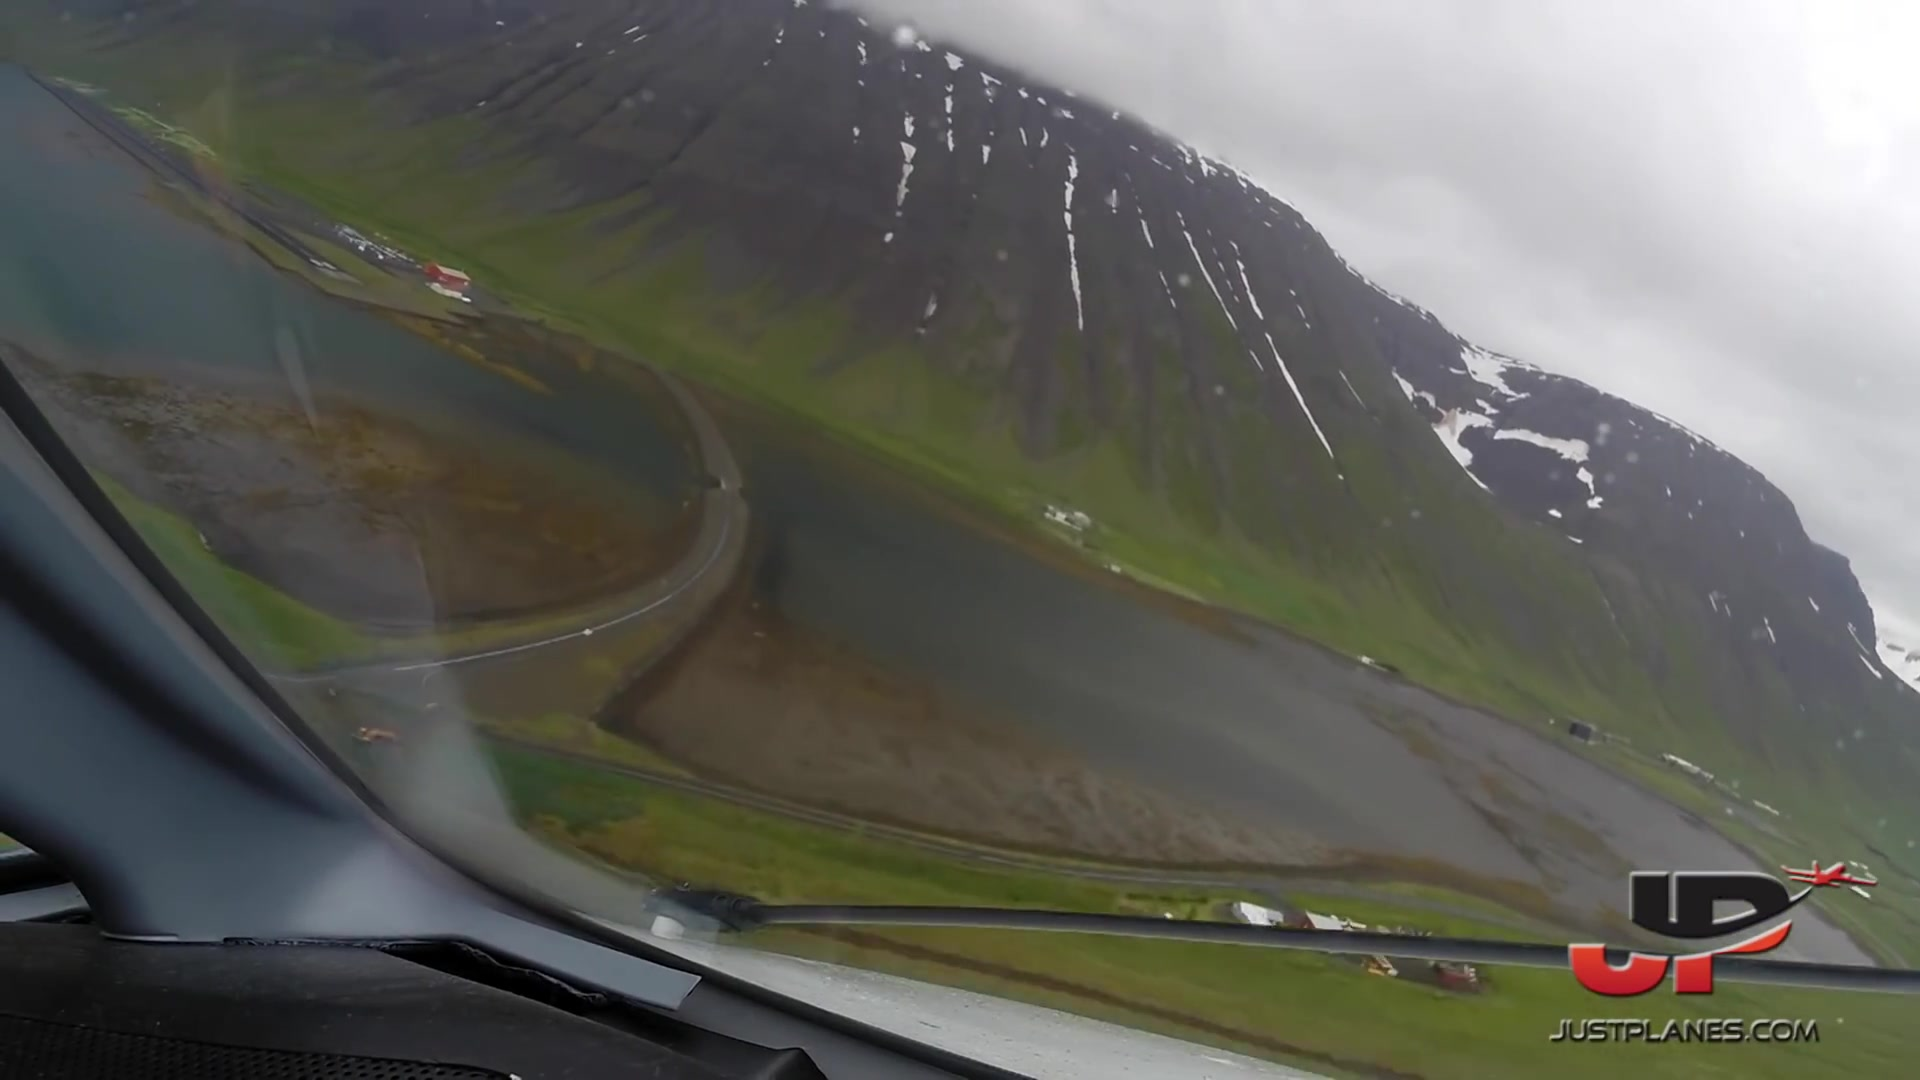runway: (204, 189, 364, 286)
